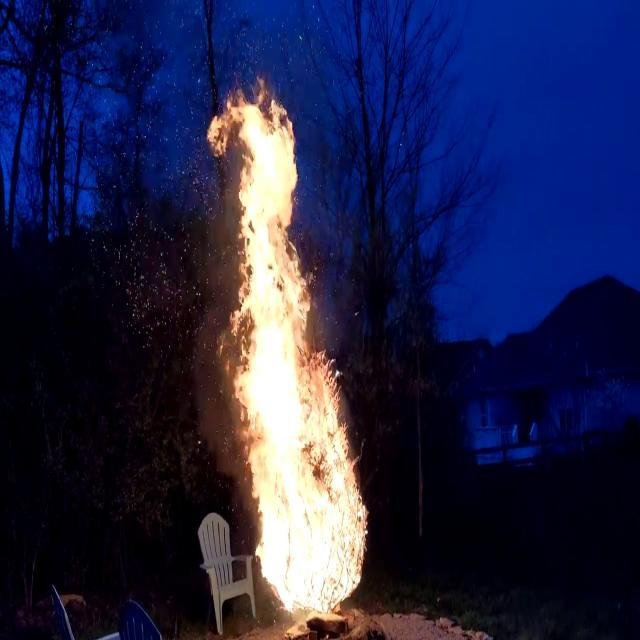Fire: (195, 66, 372, 610)
